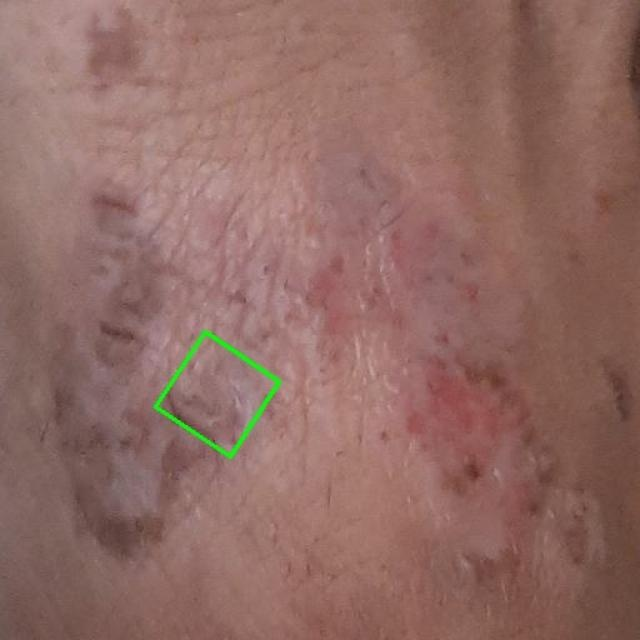Contact Dermatitis: (156, 332, 280, 457)
